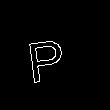P_N: (30, 30, 73, 84)
